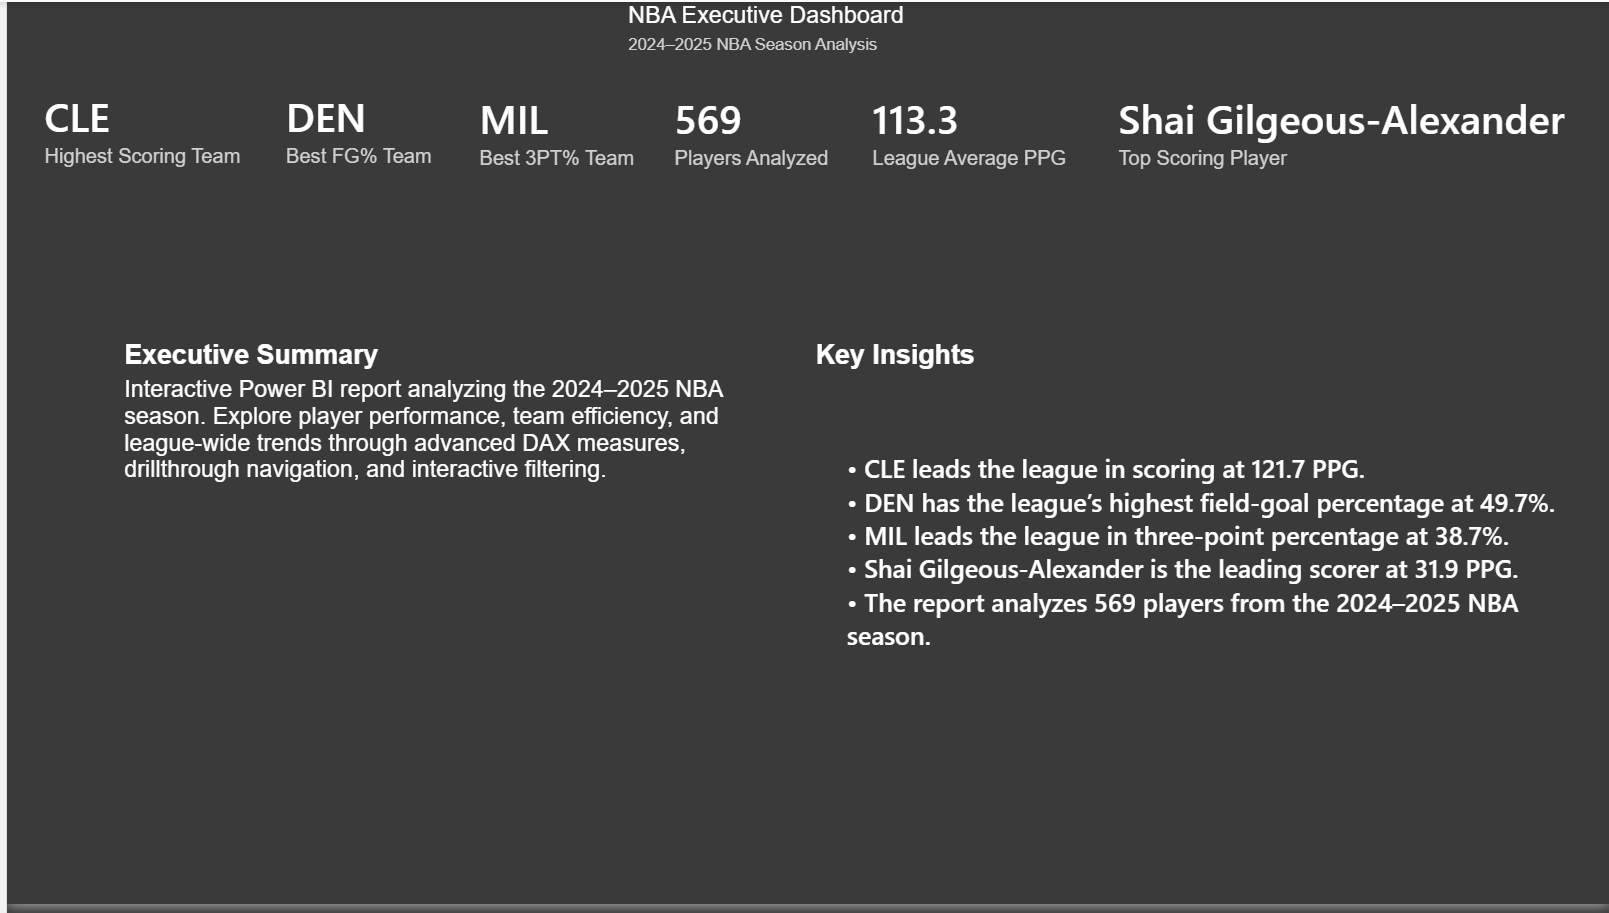

The dashboard page shown, as its layout file describes it:
{"tool":"powerbi","page":{"name":"Executive Dashboard","canvas":[1280,720],"ordinal":0},"visuals":[{"type":"textbox","title":"NBA Executive Dashboard","box":[490.8,0,256.2,47.9],"z":0},{"type":"cardVisual","fields":{"Data":["Measures_Table.Highest Scoring Team"]},"box":[0,47.9,219.1,104.1],"z":1000},{"type":"cardVisual","fields":{"Data":["Measures_Table.Best FG% Team"]},"box":[192.7,47.9,225,104.1],"z":2000},{"type":"cardVisual","fields":{"Data":["Measures_Table.Best 3PT% Team"]},"box":[347.1,51.5,190.3,100.5],"z":3000},{"type":"cardVisual","fields":{"Data":["Measures_Table.Total Players"]},"box":[502.7,51.5,181.9,100.5],"z":4000},{"type":"cardVisual","fields":{"Data":["Measures_Table.League Average PPG"]},"box":[660.8,51.5,215.5,100.5],"z":5000},{"type":"cardVisual","fields":{"Data":["Measures_Table.Top Scoring Player"]},"box":[857.1,51.5,422.5,100.5],"z":6000},{"type":"textbox","title":"Executive Summary","box":[88.6,269.3,515.9,170],"z":7000},{"type":"cardVisual","title":"Key Insights","fields":{"Data":["Measures_Table.Executive Dashboard Highlights"]},"box":[640.4,269.3,639.2,310],"z":8000}]}

Visuals, with their boxes in screenshot pixels (x1, y1, x2, y2), scaled from the page's 1280x720 canvas onto the 1609x913 screenshot:
"NBA Executive Dashboard" textbox: bbox=(617, 0, 939, 61)
cardVisual - Measures_Table.Highest Scoring Team: bbox=(0, 61, 275, 193)
cardVisual - Measures_Table.Best FG% Team: bbox=(242, 61, 525, 193)
cardVisual - Measures_Table.Best 3PT% Team: bbox=(436, 65, 676, 193)
cardVisual - Measures_Table.Total Players: bbox=(632, 65, 861, 193)
cardVisual - Measures_Table.League Average PPG: bbox=(831, 65, 1102, 193)
cardVisual - Measures_Table.Top Scoring Player: bbox=(1077, 65, 1608, 193)
"Executive Summary" textbox: bbox=(111, 341, 760, 557)
"Key Insights" cardVisual: bbox=(805, 341, 1608, 735)
